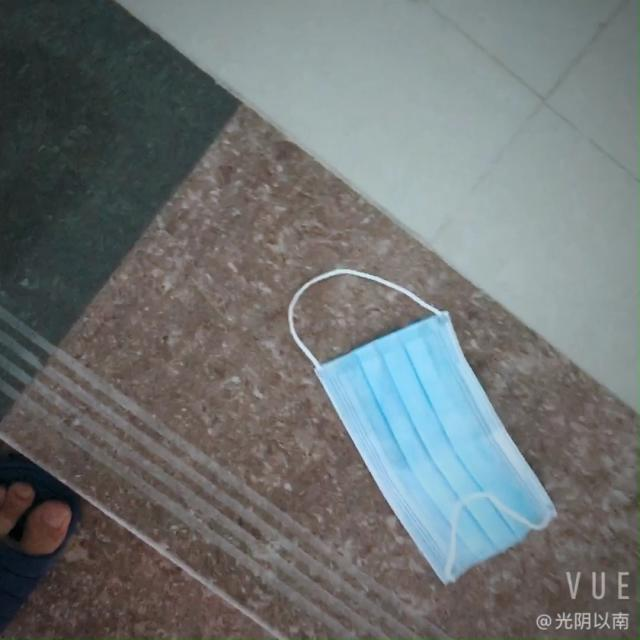non-organic waste: (318, 306, 542, 580)
